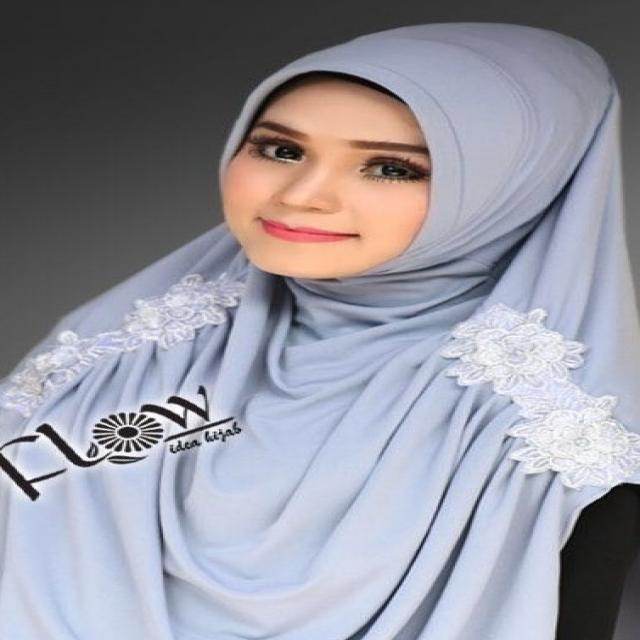head: (195, 17, 627, 291)
